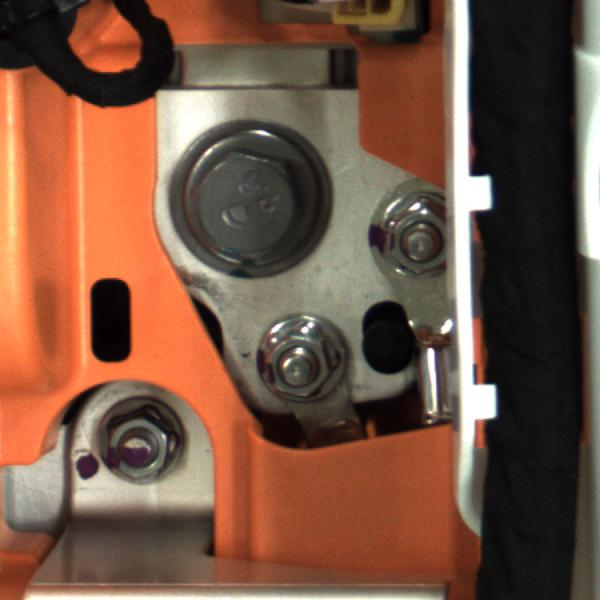nut_b: (157, 129, 339, 285)
screw_s: (361, 190, 470, 284), (249, 315, 352, 407), (88, 409, 190, 485)
